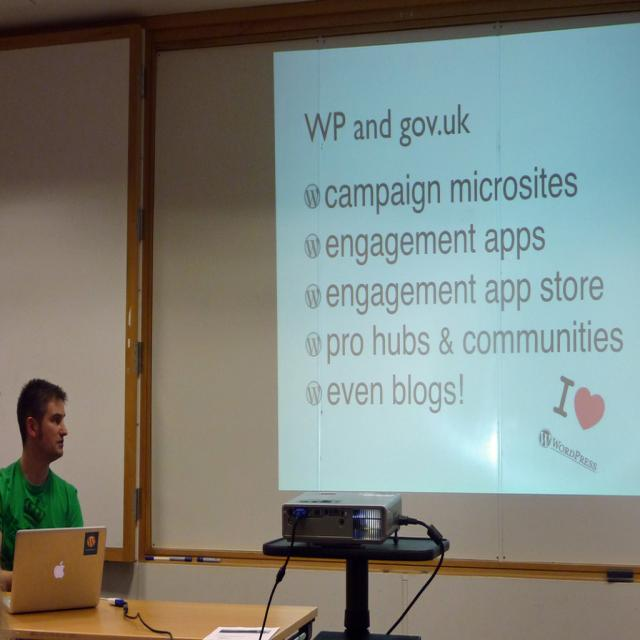desk: (0, 602, 318, 639)
laptop: (1, 524, 108, 614)
person: (0, 377, 84, 578)
